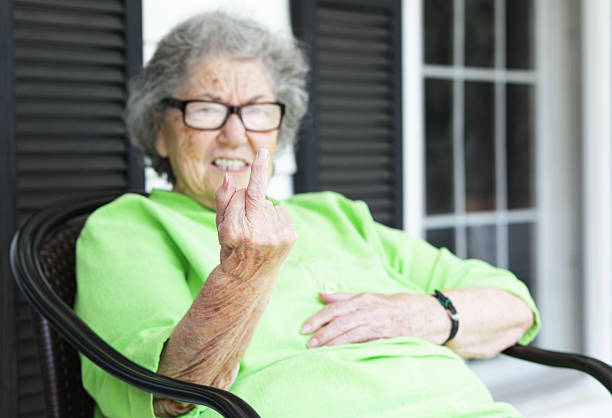insulting_gesture: (215, 147, 297, 287)
